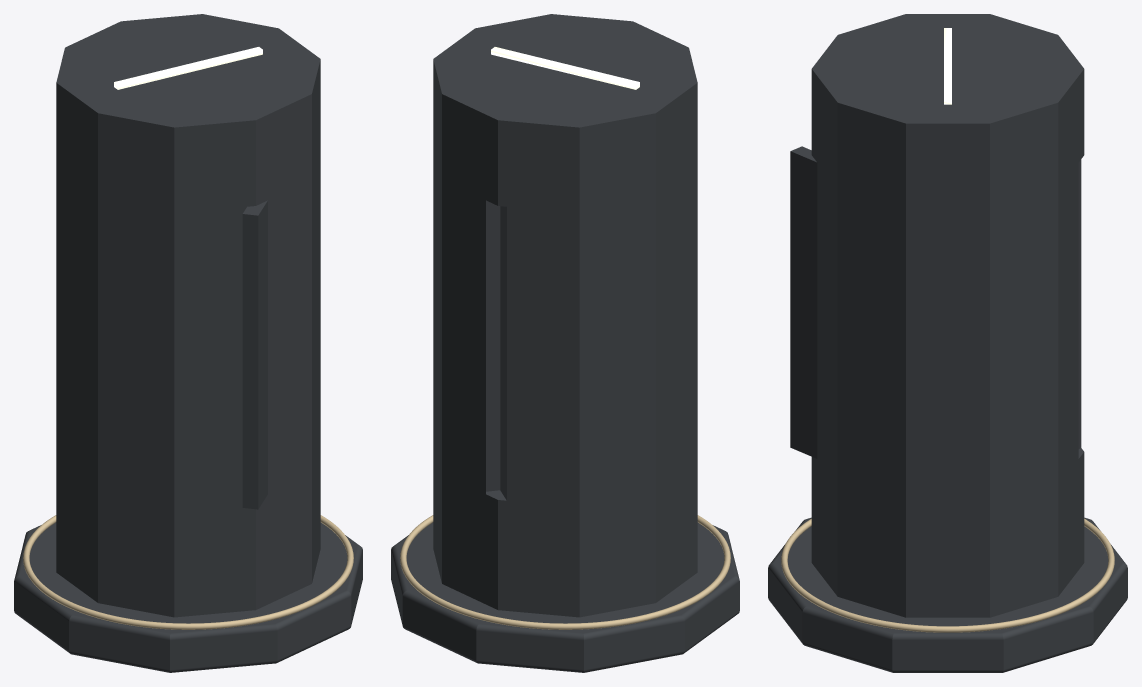
Rendered from monolith.glb.
The picture shows the model from 3 angles, left to right: view 1: azimuth 30°, elevation 25°; view 2: azimuth 150°, elevation 25°; view 3: azimuth 270°, elevation 25°; orthographic projection.
Visible parts, largest first — view 1: Monolith, Base, Inlay, Slit; view 2: Monolith, Base, Inlay, Slit; view 3: Monolith, Base, Inlay, Slit.
Part boxes in pixels (box(x1,y1,x2,y2)): Monolith: box(56, 14, 320, 617); Base: box(14, 522, 362, 672); Inlay: box(23, 515, 353, 629); Slit: box(114, 47, 262, 89); Monolith: box(433, 14, 697, 617); Base: box(391, 522, 739, 672); Inlay: box(400, 515, 730, 629); Slit: box(491, 47, 639, 89); Monolith: box(790, 14, 1084, 617); Base: box(768, 517, 1127, 672); Inlay: box(781, 518, 1114, 632); Slit: box(944, 28, 951, 104).
Bounding box in the file's own units: 1.26 × 2.18 × 1.32.
